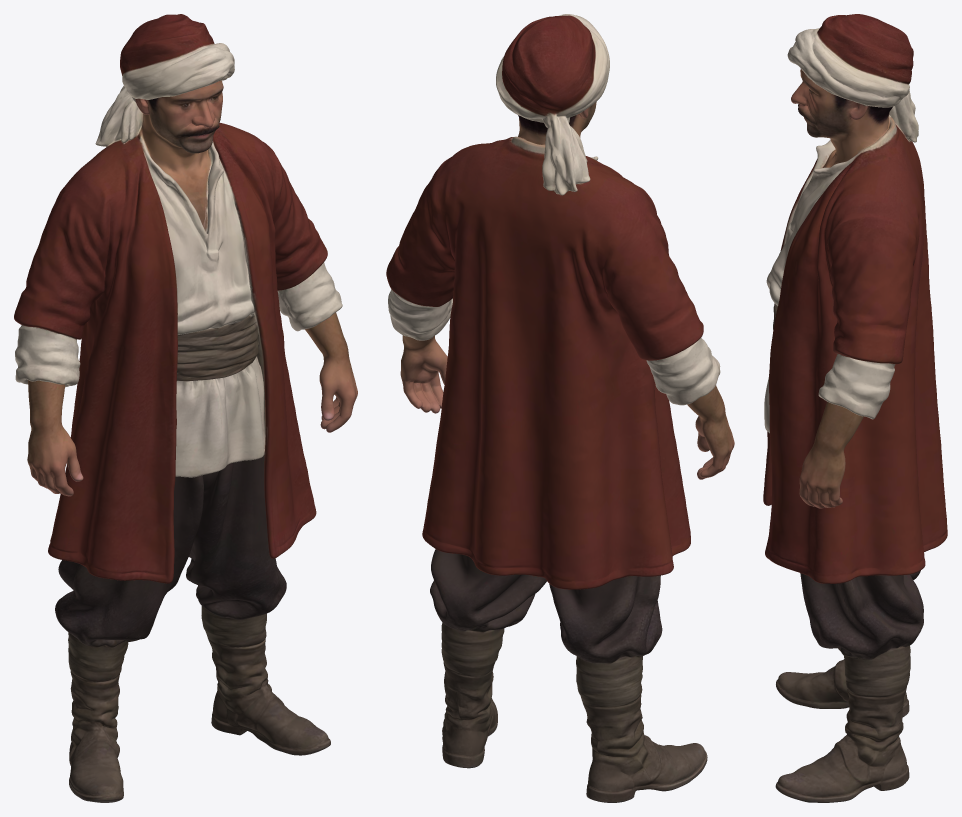
File: top-arabacisi-1550-1600-tripo-v1.glb
The picture shows the model from 3 angles, left to right: view 1: azimuth 30°, elevation 25°; view 2: azimuth 150°, elevation 25°; view 3: azimuth 270°, elevation 25°; orthographic projection. The views are drawn at different scales.
Visible parts, largest first — view 1: tripo_node_a9b9e13e-d9da-4374-86e3-00a7579782fa; view 2: tripo_node_a9b9e13e-d9da-4374-86e3-00a7579782fa; view 3: tripo_node_a9b9e13e-d9da-4374-86e3-00a7579782fa.
Boxes of the visible parts, x1,y1,x2,y2 form: tripo_node_a9b9e13e-d9da-4374-86e3-00a7579782fa: (14, 14, 357, 802); tripo_node_a9b9e13e-d9da-4374-86e3-00a7579782fa: (386, 14, 734, 802); tripo_node_a9b9e13e-d9da-4374-86e3-00a7579782fa: (763, 14, 947, 802).
Size of the model in its own units: 0.4571 by 1 by 0.2288.
Materials: 1 (1 with a texture image).
